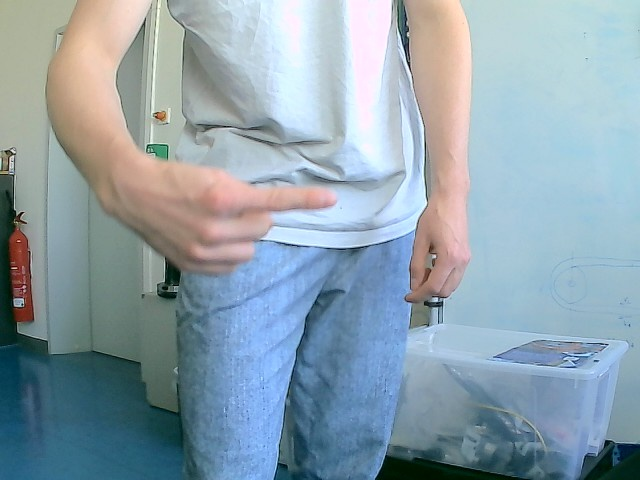left: (107, 153, 339, 278)
